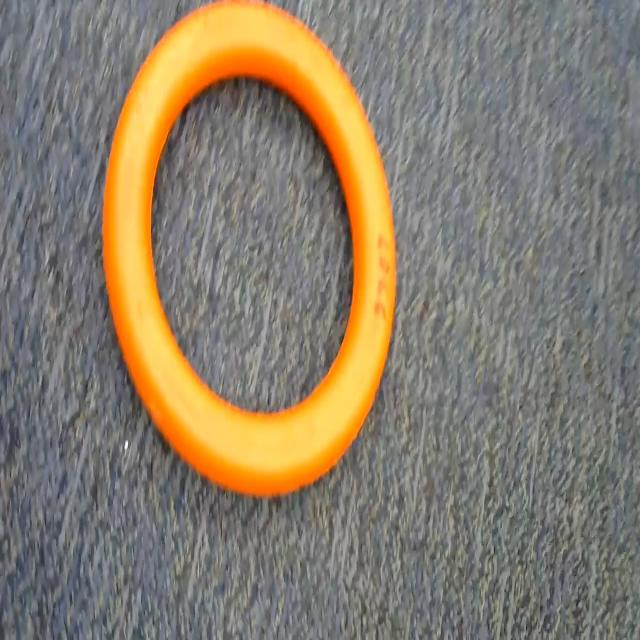note: (92, 1, 426, 522)
